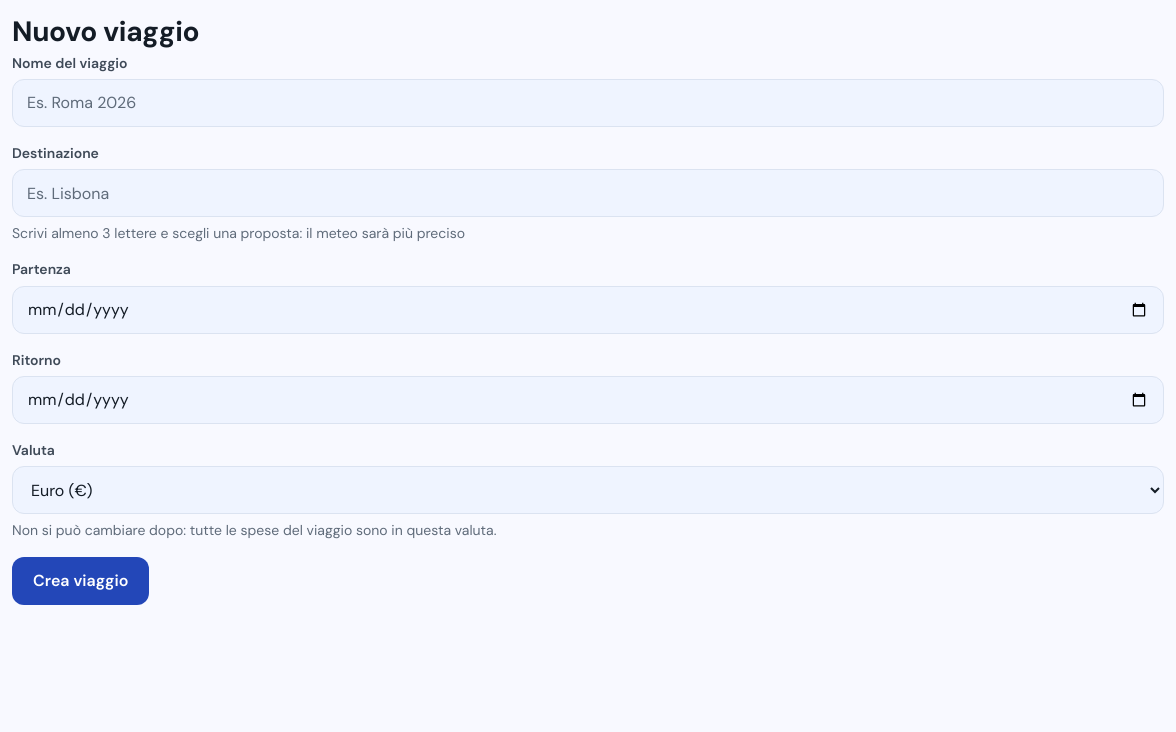
Test case: se la ricerca dei luoghi non risponde lo dice
Type "Lisbona" into the dropdown labelled "Destinazione" at coordinates (588, 193), box x1=12 y1=169 x2=1164 y2=217
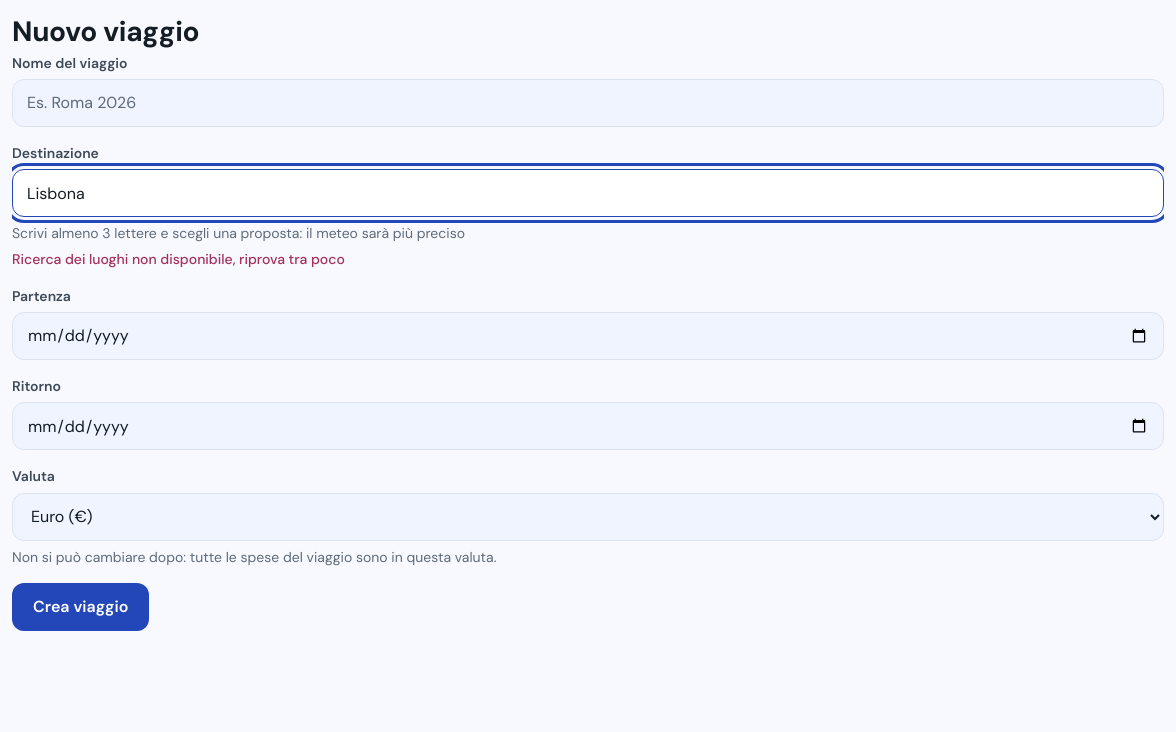
Expected: the text "Ricerca dei luoghi non disponibile, riprova tra poco" is shown, x1=12 y1=250 x2=345 y2=268
